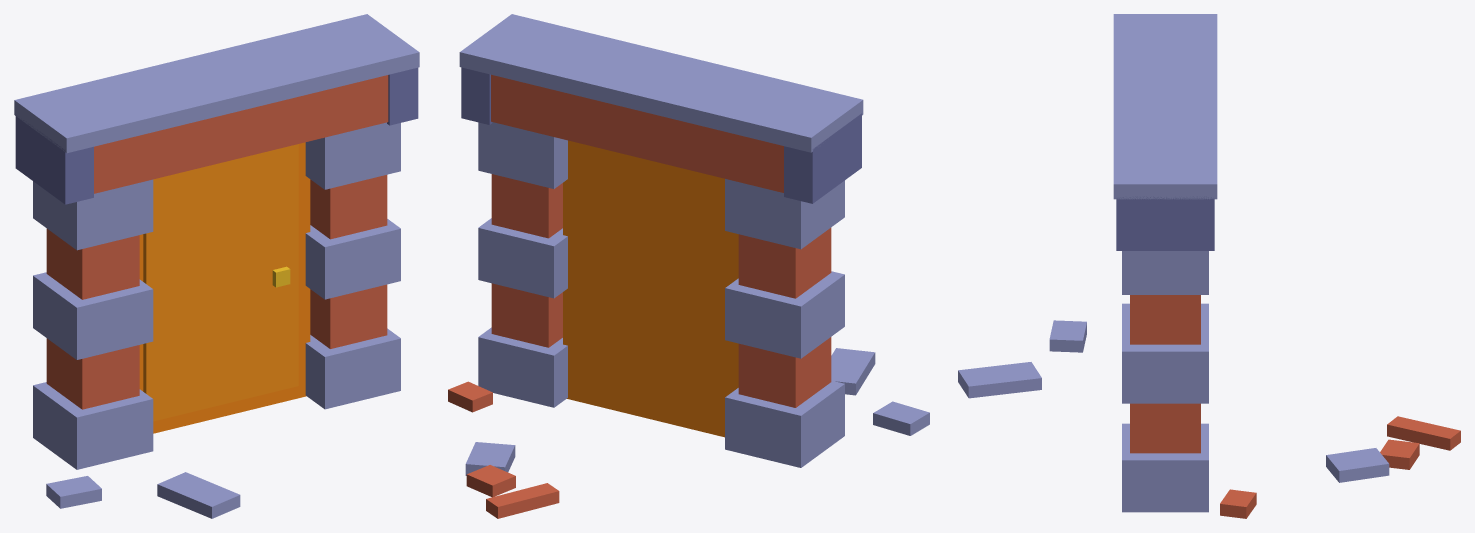
The model's file is StoneDoor.fbx.
3 renders of one model, left to right at view 1: azimuth 30°, elevation 25°; view 2: azimuth 150°, elevation 25°; view 3: azimuth 270°, elevation 25°, orthographic.
Parts seen in each view (by area): view 1: StoneLilac, Pumpkin.005, Brick, StoneLilacDark, WheelOrange; view 2: StoneLilac, WheelOrange, Brick, StoneLilacDark; view 3: StoneLilac, Brick, StoneLilacDark.
Part boxes in pixels (x1,y1,x2,y2): StoneLilac: (14,14,419,518); Pumpkin.005: (143,144,298,421); Brick: (46,75,388,409); StoneLilacDark: (15,67,418,204); WheelOrange: (139,142,310,433); StoneLilac: (459,14,929,475); WheelOrange: (563,140,738,437); Brick: (448,74,831,518); StoneLilacDark: (461,67,861,203); StoneLilac: (958,14,1389,512); Brick: (1130,295,1460,518); StoneLilacDark: (1116,196,1214,250).
Size of the model in its own units: 8.17 by 6.8 by 9.22.
